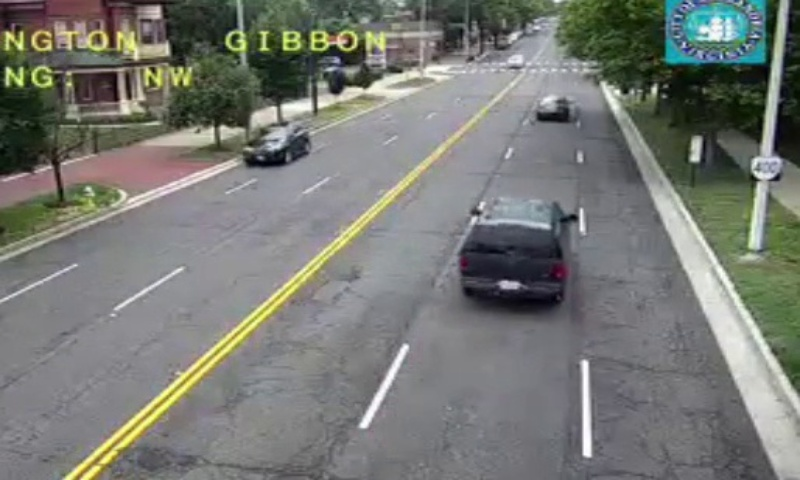car: (459, 197, 568, 301), (536, 96, 568, 120)
